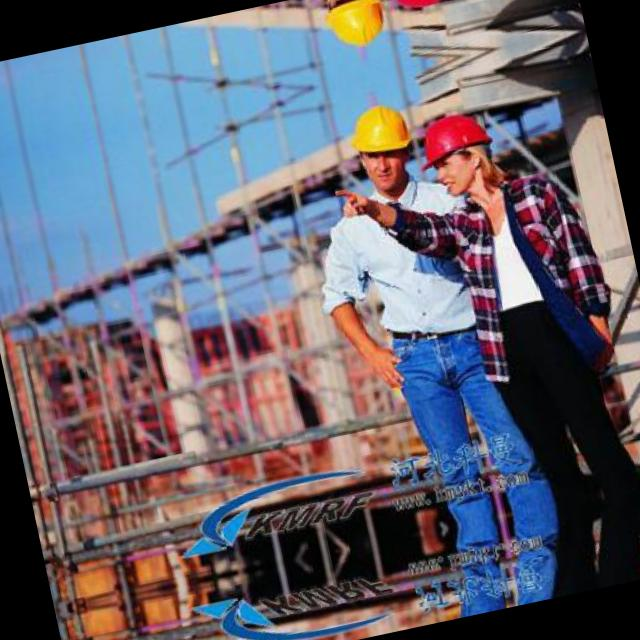helmet: (336, 88, 428, 202), (404, 100, 506, 202), (312, 0, 398, 60), (375, 0, 469, 20)
